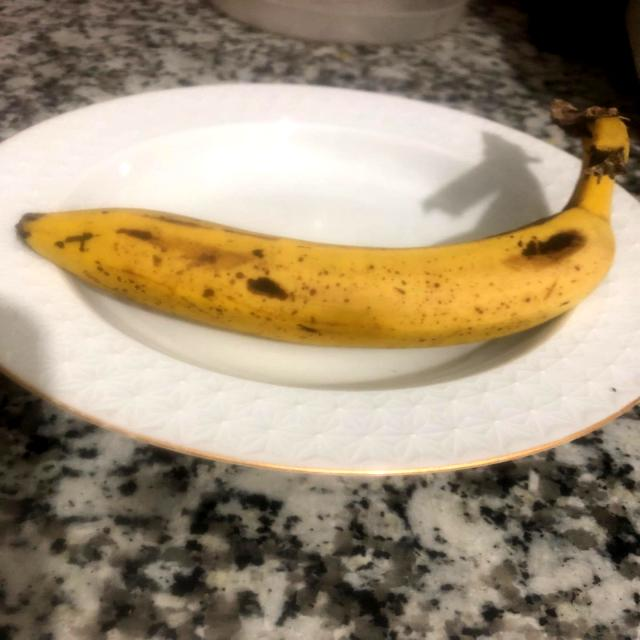banana: (14, 80, 640, 346)
